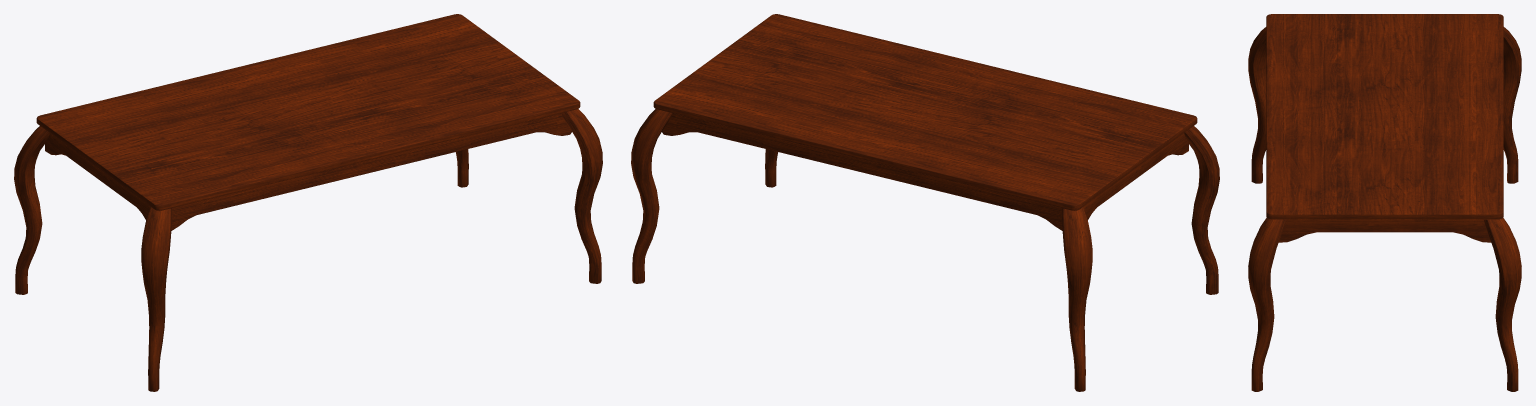
File: tableB.fbx
The picture shows the model from 3 angles, left to right: view 1: azimuth 30°, elevation 25°; view 2: azimuth 150°, elevation 25°; view 3: azimuth 270°, elevation 25°; orthographic projection. The views are drawn at different scales.
Visible parts, largest first — view 1: board, partsA, poleH, poleF, poleG; view 2: board, partsA, poleG, poleE, poleH; view 3: board, poleE, poleF, partsA, poleG, poleH.
Part boxes in pixels (x1,y1,x2,y2): board: (36, 14, 580, 210); partsA: (45, 113, 571, 230); poleH: (141, 207, 171, 391); poleF: (561, 109, 602, 283); poleG: (14, 126, 49, 294); board: (653, 14, 1197, 210); partsA: (662, 113, 1188, 230); poleG: (1062, 207, 1092, 391); poleE: (631, 109, 672, 283); poleH: (1184, 126, 1219, 294); board: (1266, 14, 1503, 219); poleE: (1484, 217, 1521, 391); poleF: (1248, 217, 1285, 391); partsA: (1278, 219, 1491, 242); poleG: (1503, 27, 1521, 183); poleH: (1248, 27, 1266, 183).
Size of the model in its own units: 215 by 79.78 by 115.
